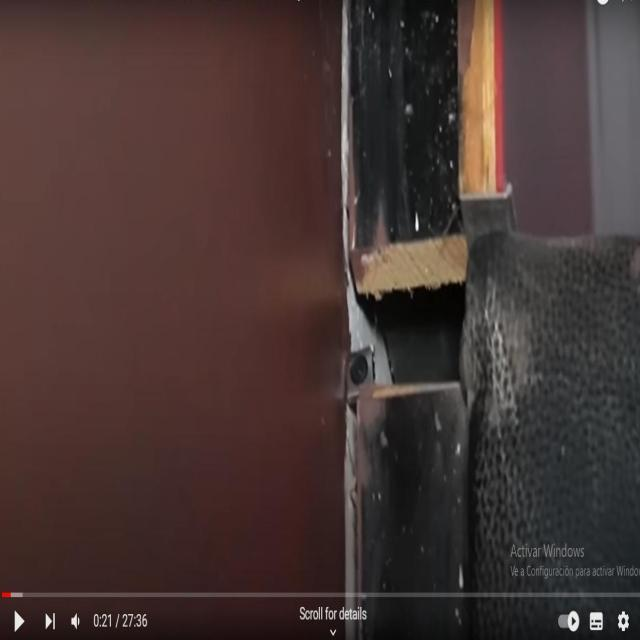hidden camera: (346, 348, 372, 397)
